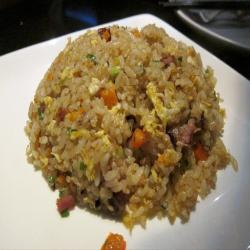rice: (24, 26, 238, 231)
